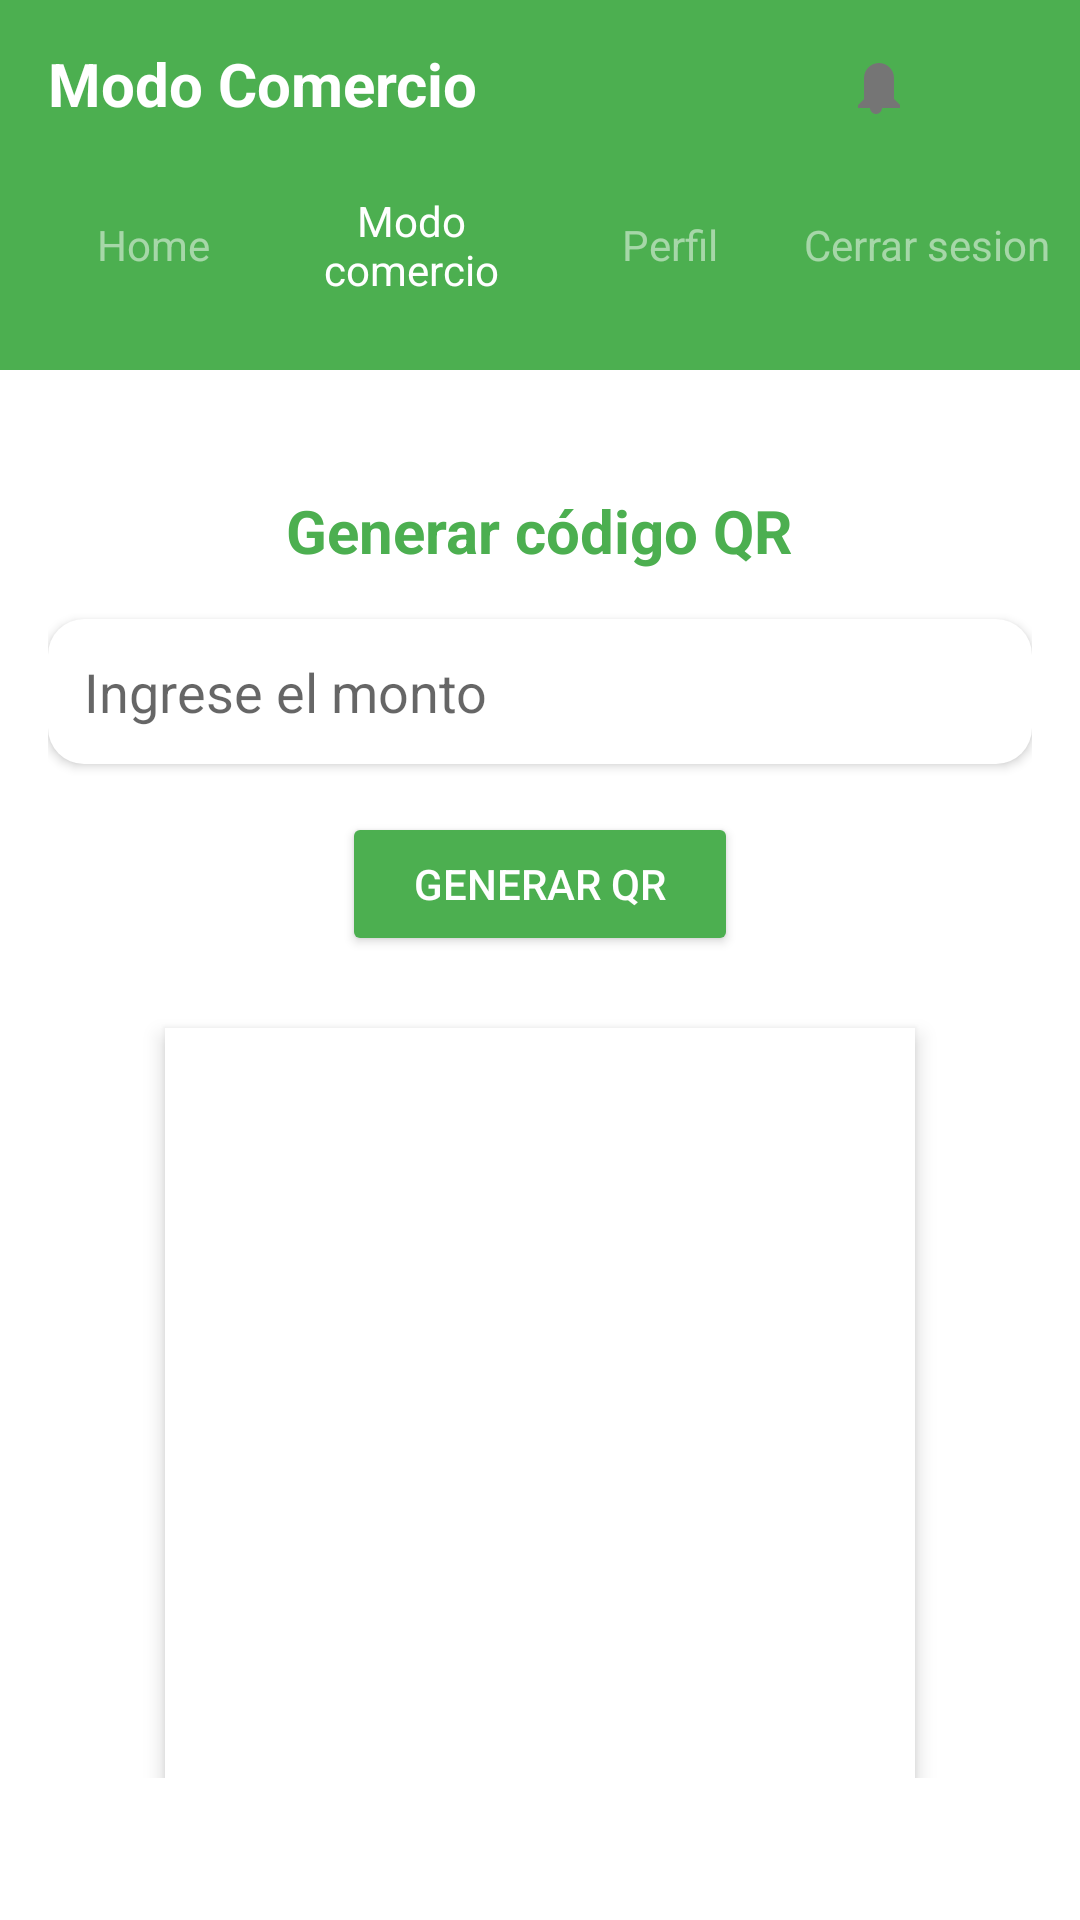

Icon bounding boxes for this 1080x1920 phone screenshot, format (x1, y1, x2, y2):
Notificaciones: (858, 63, 900, 114)
